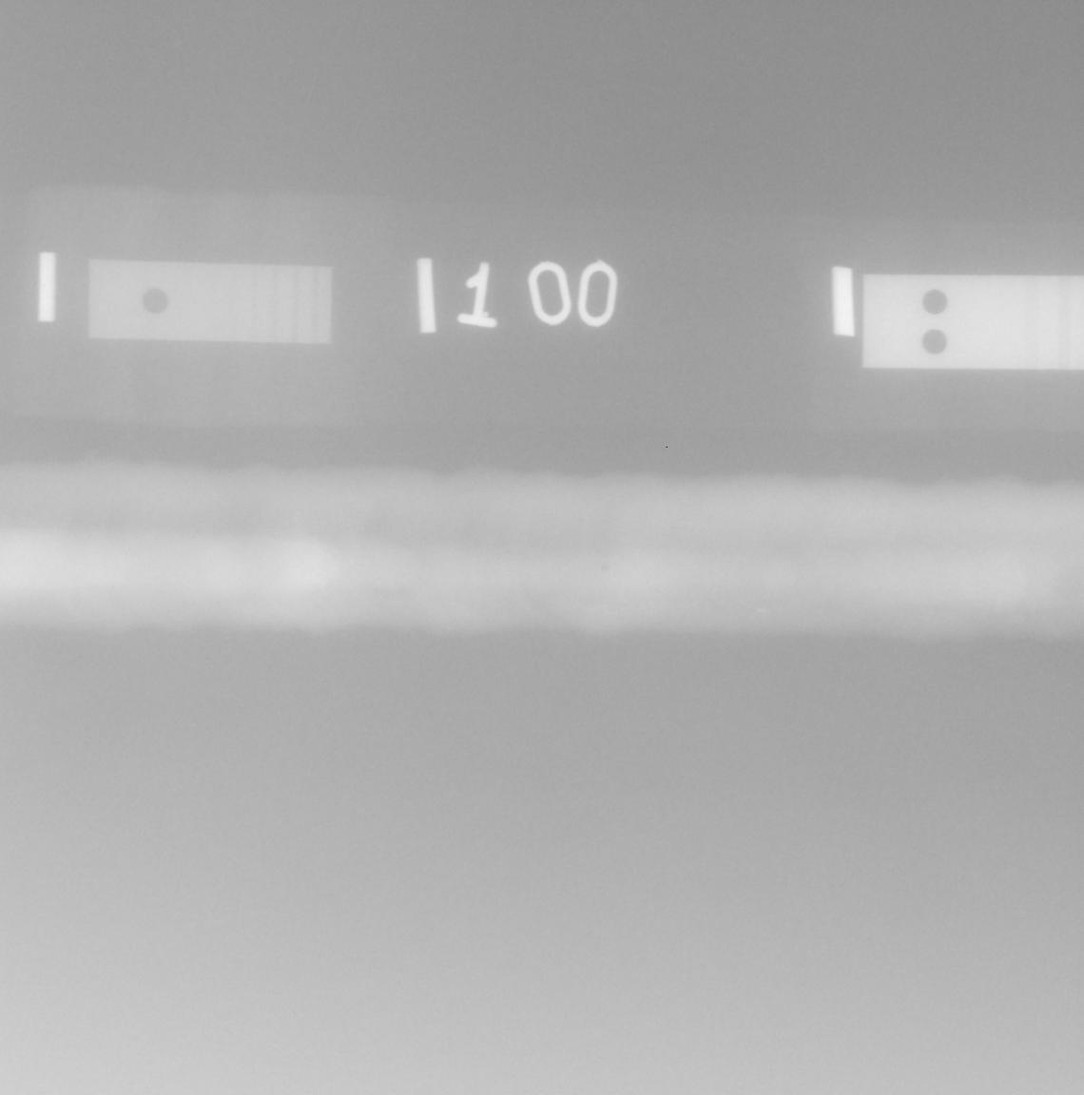Pore/Porosity: (601, 565, 608, 571)
Reference Standard 1: (88, 260, 331, 344)
